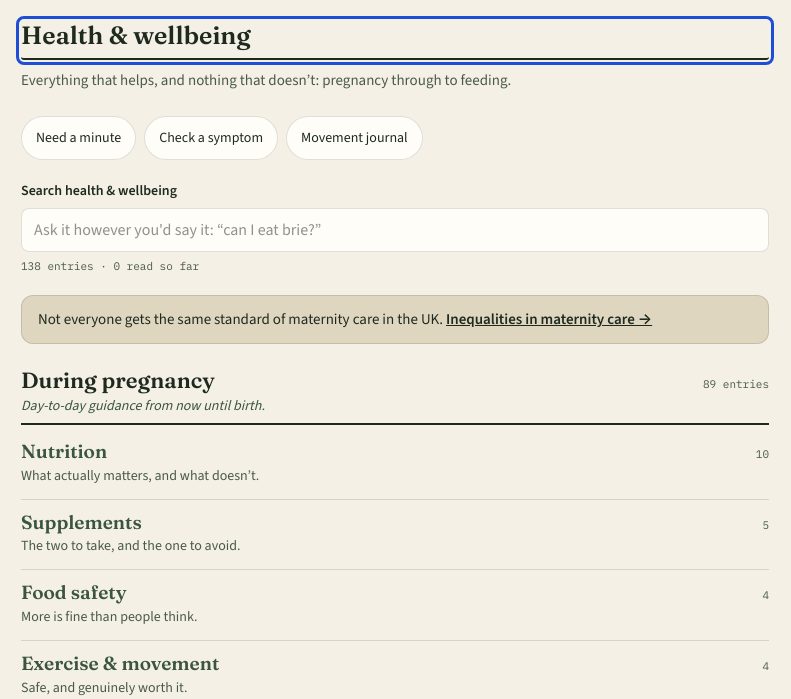
Scenario: the urgent offer does not become a diagnosis › announces the urgent offer to a screen reader, not just the result count
Step 1. Type "chest pain" into the search field labelled "Search health & wellbeing" → (395, 230), box [21, 208, 769, 252]
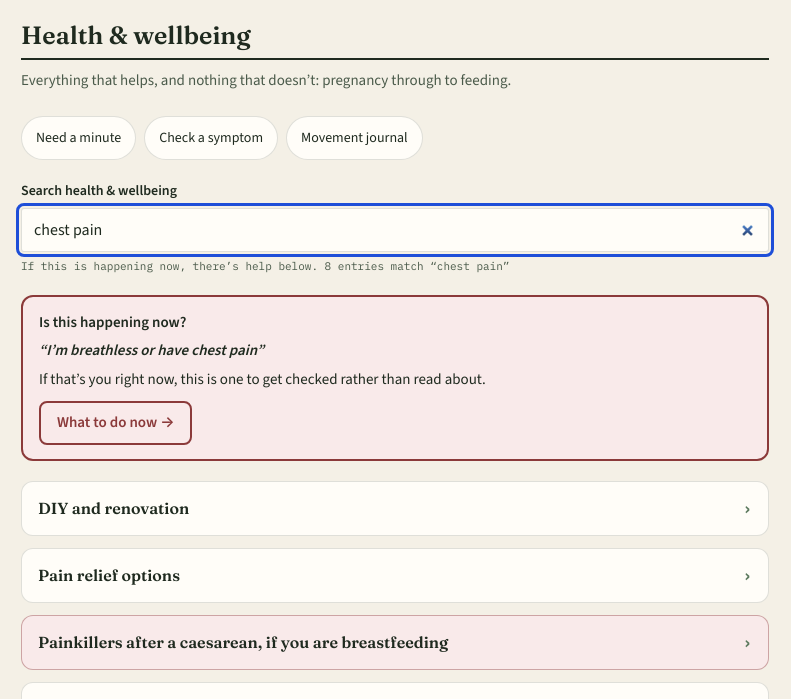
Expected: the text "happening now" is shown, [21, 259, 509, 273]
